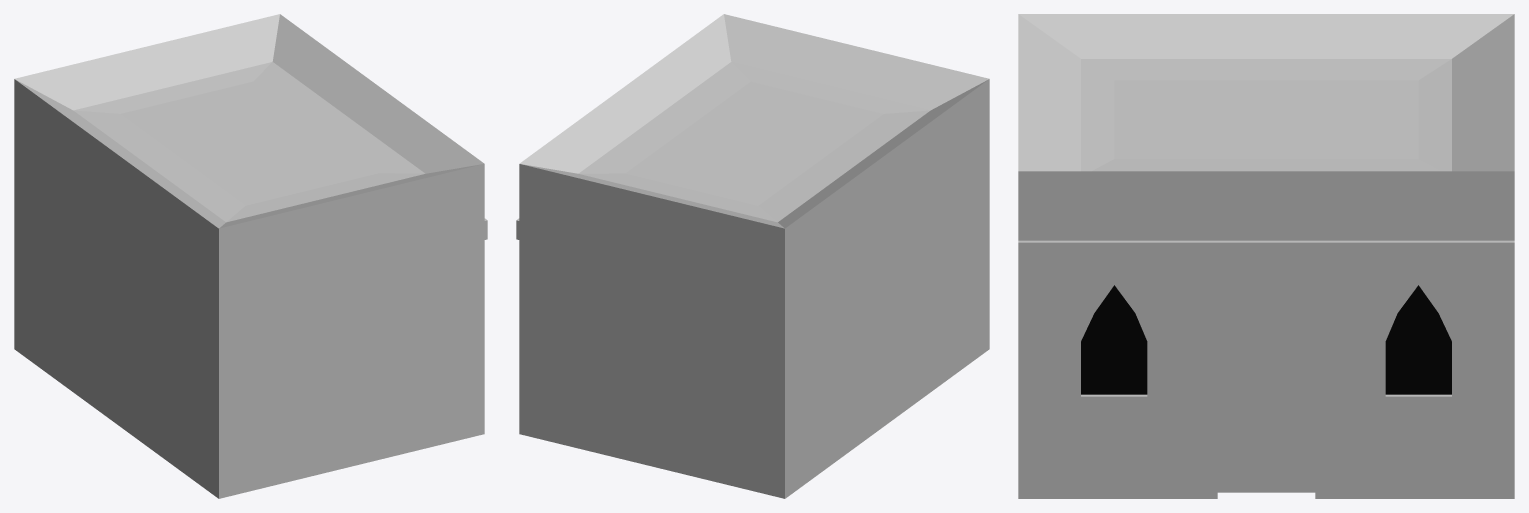
Rendered from _uilding4.fbx.
3 views of the same model, side by side, from view 1: azimuth 30°, elevation 25°; view 2: azimuth 150°, elevation 25°; view 3: azimuth 270°, elevation 25° (orthographic). The views are drawn at different scales.
Visible parts, largest first — view 1: BrickBuilding4; view 2: BrickBuilding4; view 3: BrickBuilding4.
Boxes of the visible parts, bbox=[...] form: BrickBuilding4: bbox=[14, 14, 487, 498]; BrickBuilding4: bbox=[516, 14, 989, 498]; BrickBuilding4: bbox=[1018, 14, 1514, 498].
Bounding box in the file's own units: 948 × 911 × 1250.
